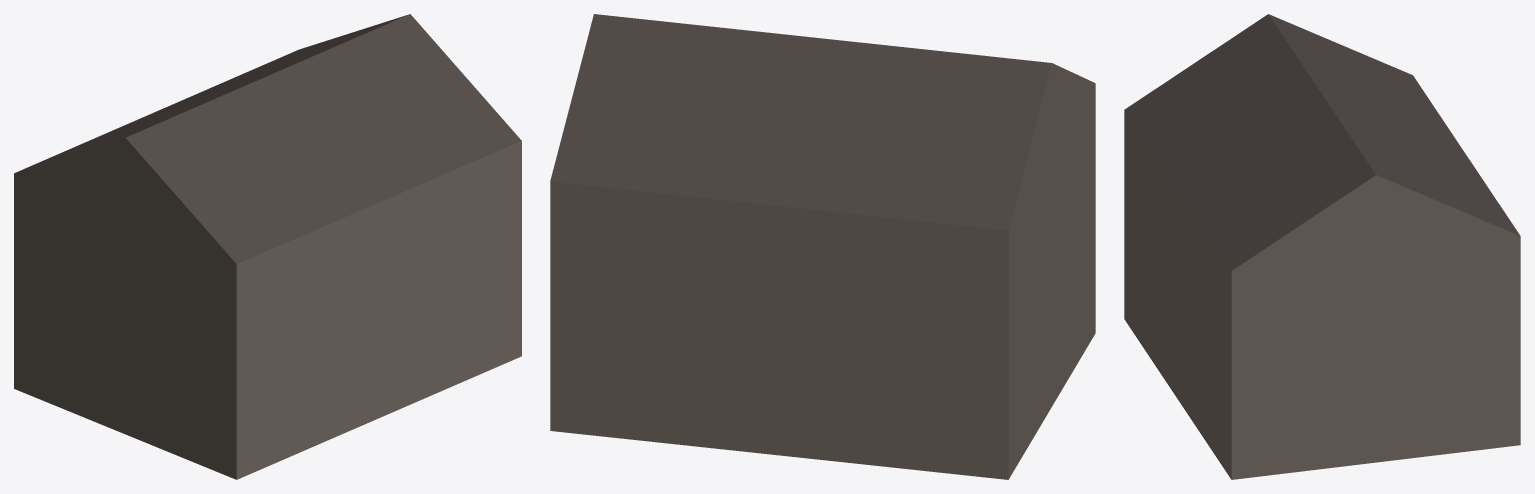
3 views of the same model, side by side, from view 1: azimuth 30°, elevation 25°; view 2: azimuth 150°, elevation 25°; view 3: azimuth 270°, elevation 25° (orthographic). The views are drawn at different scales.
Parts seen in each view (by area): view 1: HP-w1198842230; view 2: HP-w1198842230; view 3: HP-w1198842230.
Boxes of the visible parts, box(x1,y1,x2,y2) form: HP-w1198842230: box(14, 14, 521, 479); HP-w1198842230: box(550, 14, 1095, 479); HP-w1198842230: box(1124, 14, 1520, 479).
Bounding box in the file's own units: 12.06 × 8.26 × 10.32.
